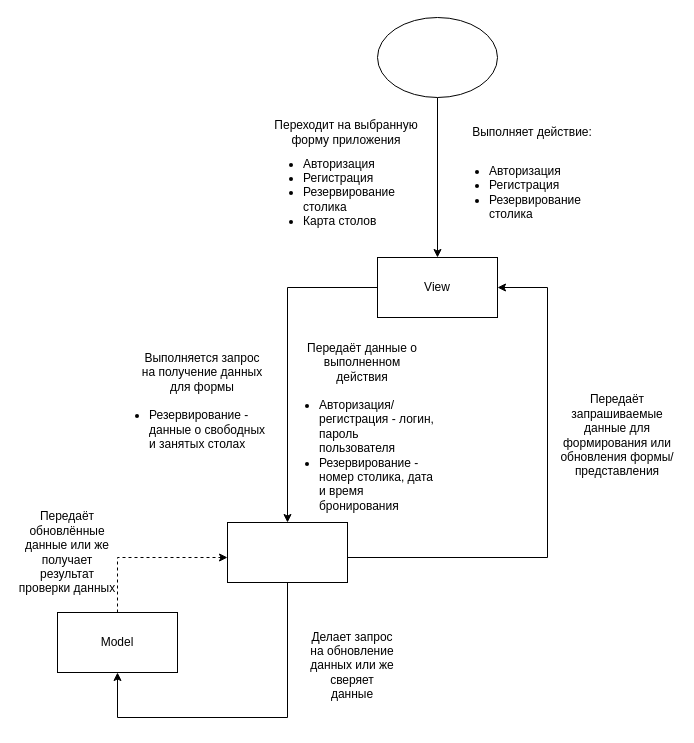
Image size: 694x743. Some labels were removed from this diagram. Each missing label, with the centre of its shape:
"Presenter" belongs at pixel 287 552.
"User" belongs at pixel 437 57.
